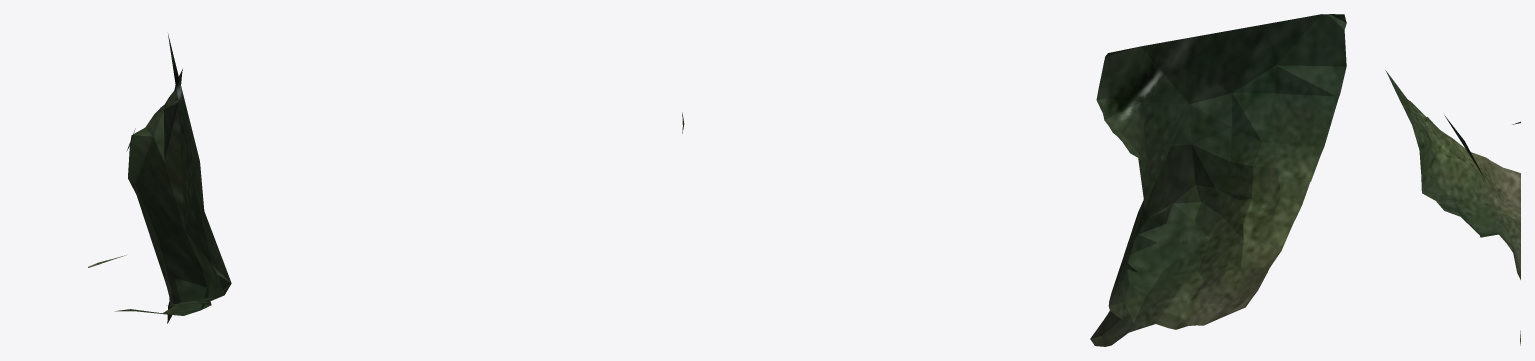
3 renders of one model, left to right at view 1: azimuth 30°, elevation 25°; view 2: azimuth 150°, elevation 25°; view 3: azimuth 270°, elevation 25°, orthographic. The views are drawn at different scales.
Bounding box in the file's own units: 5.9 × 2.96 × 1.83.
Materials: 1 (1 with a texture image).
